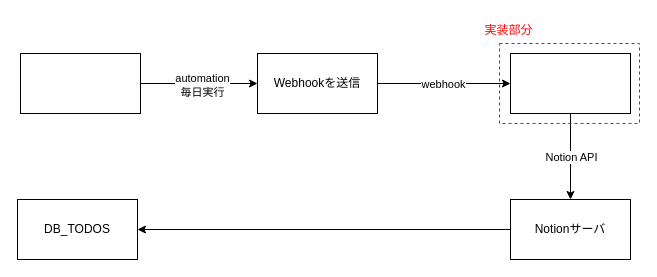
This 657x277 diagram has some shape labels left out. The centre of each missing label's shape, as x and y in pixels:
DB_HABITS: (80,83)
DB_TODOSに DB_HABITSの ページを追加: (570,83)
